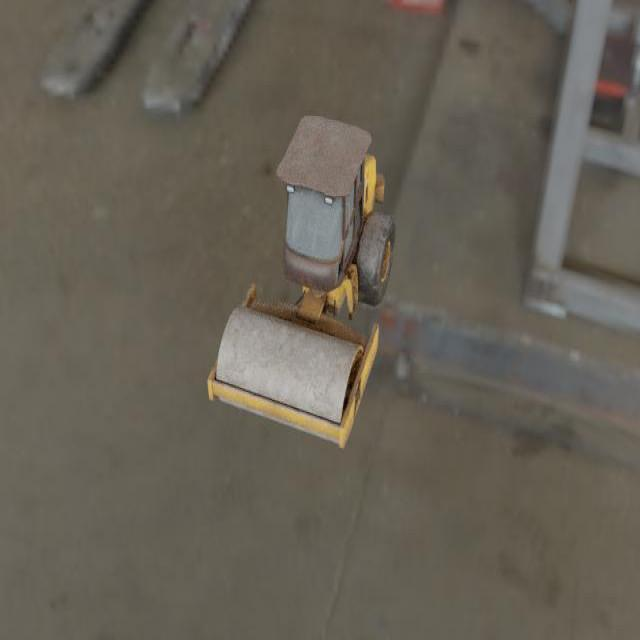Roller: (207, 115, 396, 448)
